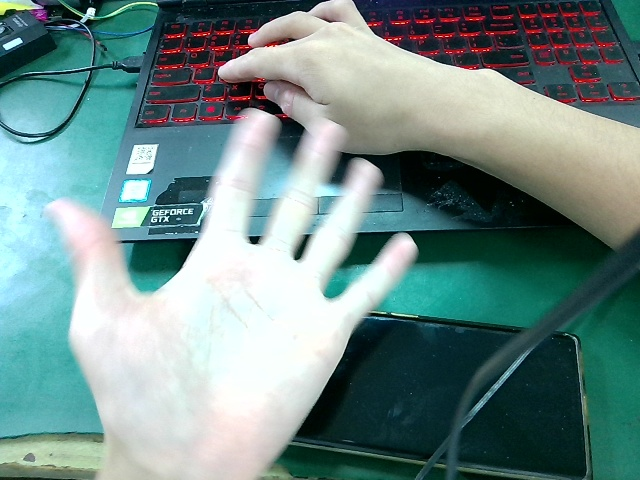paper: (33, 100, 420, 480)
